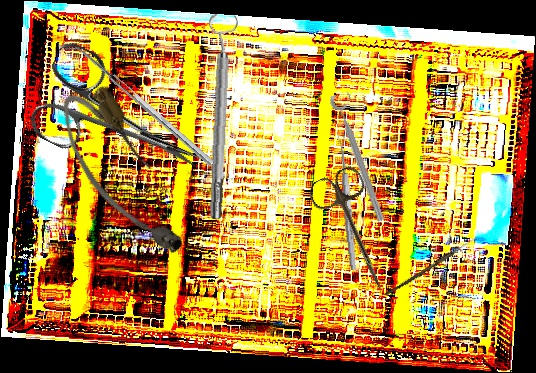Cannula: (47, 76, 197, 274)
Fixation Ring: (197, 13, 242, 220), (328, 89, 396, 224)
Iris Scissors: (20, 38, 224, 206), (305, 163, 408, 300)
Spatula Surgical: (64, 38, 214, 172)
Surgical Spoon: (384, 234, 478, 299), (337, 133, 358, 271)
